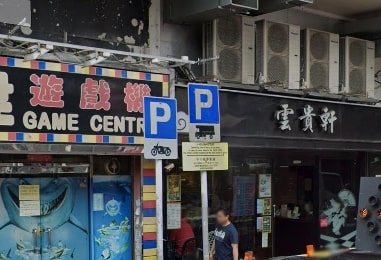Parking: (140, 91, 179, 158), (188, 79, 221, 143)
